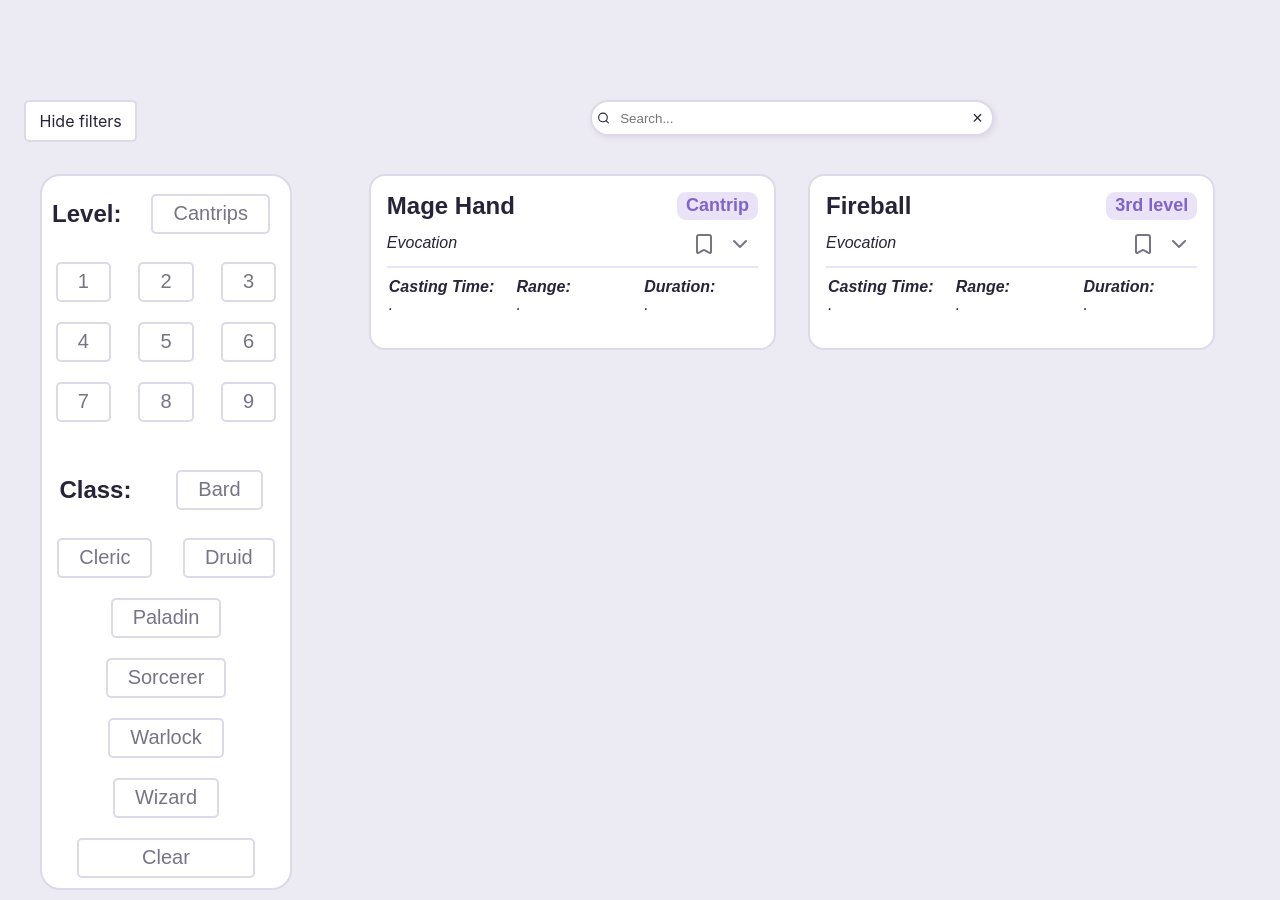
it: loads spell summaries and filters by search text
Check: the heading "Fireball" is shown, box [826,192,911,220]
Check: the heading "Mage Hand" is shown, box [387,192,515,220]
Type "mage" into the field named "Search spells" at (789,118), box [610,102,968,134]
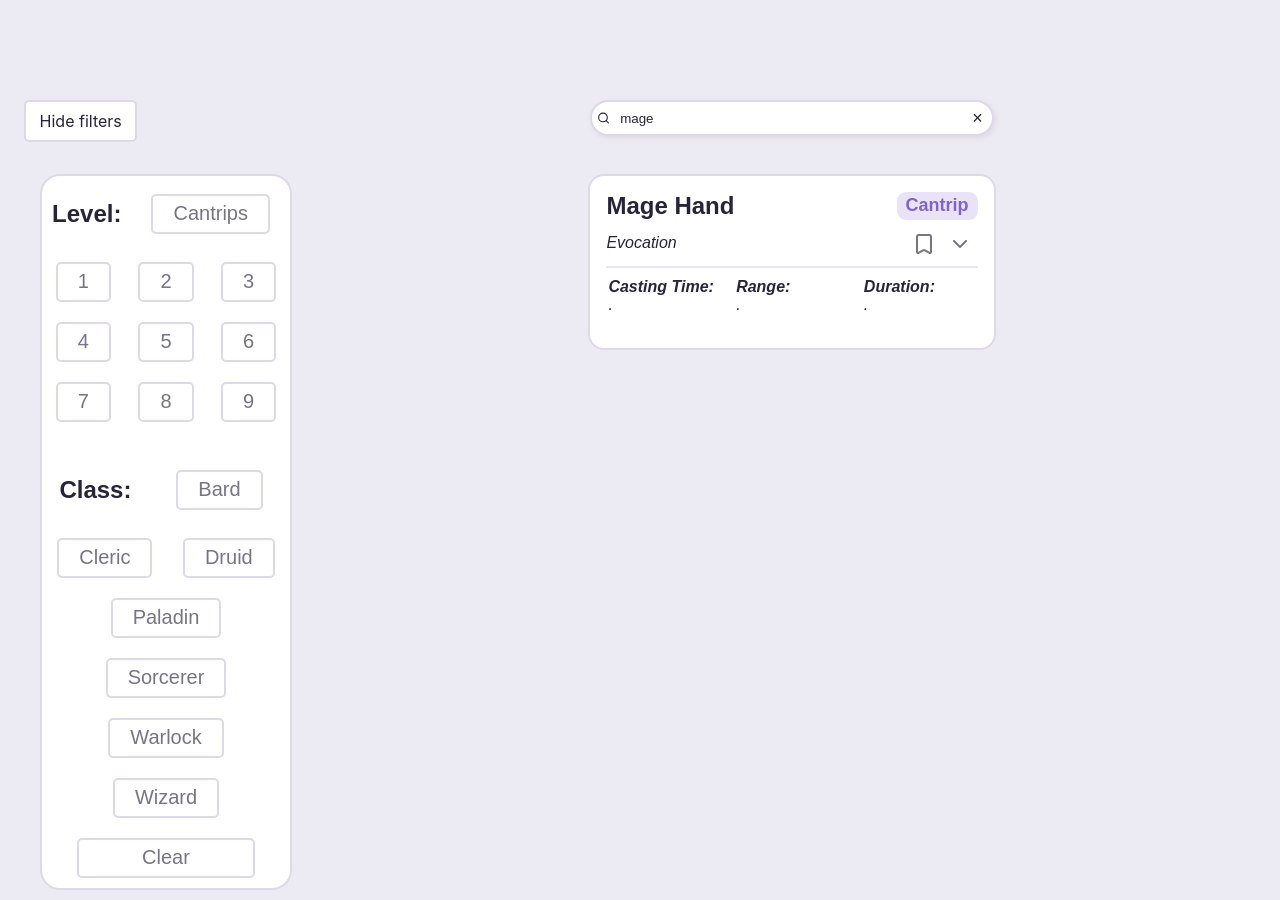
Check: the heading "Mage Hand" is shown, box [606,192,734,220]
Check: the heading "Fireball" is gone
